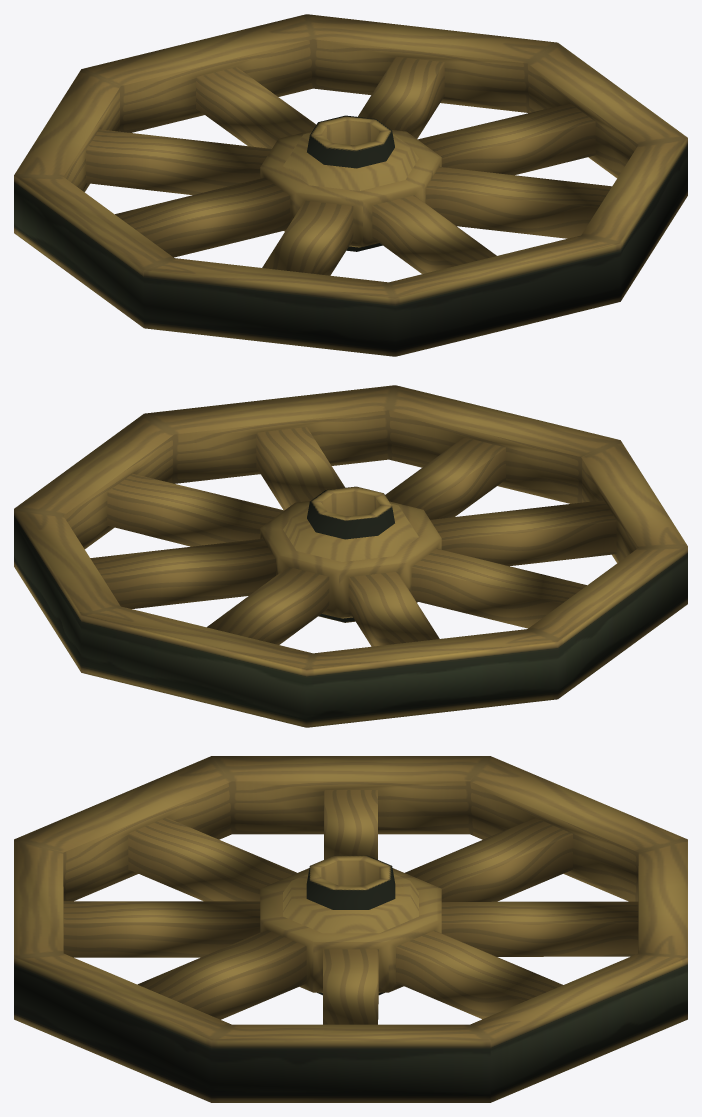
Rendered from wagon_wheel.fbx.
3 renders of one model, top to bottom at view 1: azimuth 30°, elevation 25°; view 2: azimuth 150°, elevation 25°; view 3: azimuth 270°, elevation 25°, orthographic. The views are drawn at different scales.
Visible parts, largest first — view 1: Cylinder; view 2: Cylinder; view 3: Cylinder.
Boxes of the visible parts, x1,y1,x2,y2 form: Cylinder: (14,14,687,356); Cylinder: (14,385,687,727); Cylinder: (14,756,687,1102).
Bounding box in the file's own units: 0.9839 × 0.173 × 0.9839.
